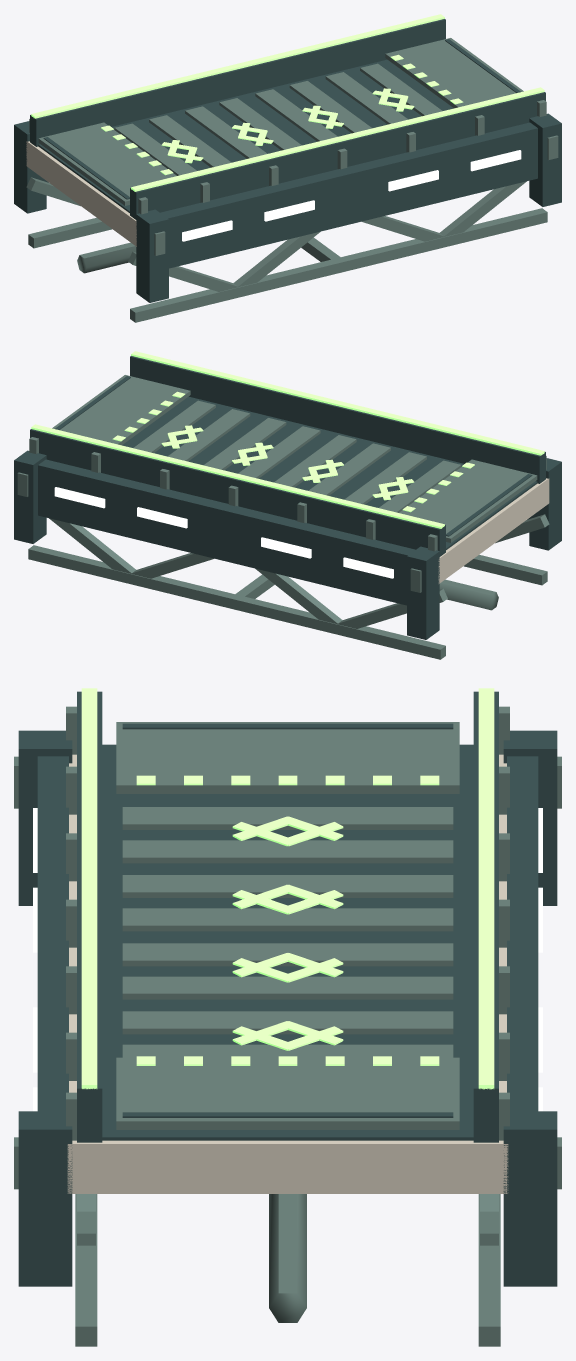
The model's file is Deck_Conveyor_Belt_v4_6_lab.glb.
3 renders of one model, top to bottom at view 1: azimuth 30°, elevation 25°; view 2: azimuth 150°, elevation 25°; view 3: azimuth 270°, elevation 25°, orthographic. The views are drawn at different scales.
Visible parts, largest first — view 1: Deck_Conveyor_Belt_v4_6, Treads, TreadsRev; view 2: Deck_Conveyor_Belt_v4_6, Treads, TreadsRev; view 3: Deck_Conveyor_Belt_v4_6, Treads, TreadsRev.
Boxes of the visible parts, x1=… form: Deck_Conveyor_Belt_v4_6: x1=14, y1=14, x2=561, y2=322; Treads: x1=114, y1=63, x2=442, y2=175; TreadsRev: x1=137, y1=64, x2=440, y2=174; Deck_Conveyor_Belt_v4_6: x1=14, y1=351, x2=561, y2=659; Treads: x1=133, y1=400, x2=461, y2=512; TreadsRev: x1=133, y1=401, x2=439, y2=512; Deck_Conveyor_Belt_v4_6: x1=14, y1=688, x2=561, y2=1346; Treads: x1=122, y1=807, x2=453, y2=1057; TreadsRev: x1=122, y1=807, x2=453, y2=1057.
Size of the model in its own units: 6.07 by 1.83 by 3.48.
